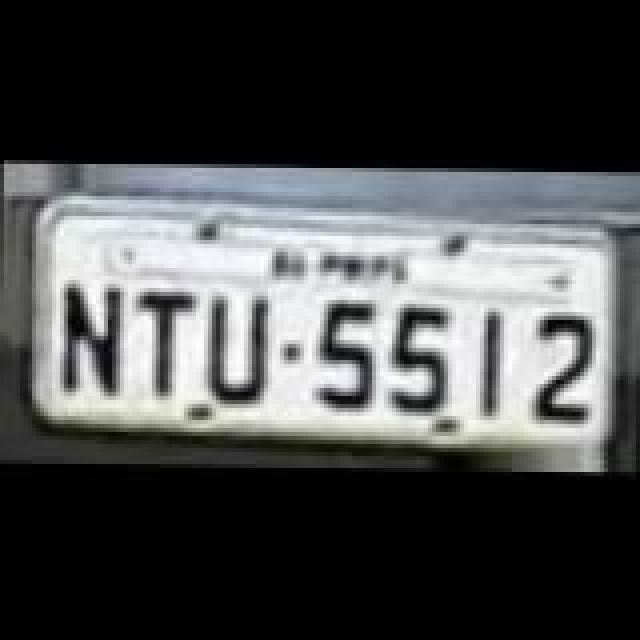1: (480, 308, 512, 420)
2: (524, 310, 596, 426)
5: (310, 294, 386, 410), (390, 304, 458, 416)
N: (62, 282, 130, 406)
T: (134, 288, 202, 400)
U: (206, 296, 274, 408)
